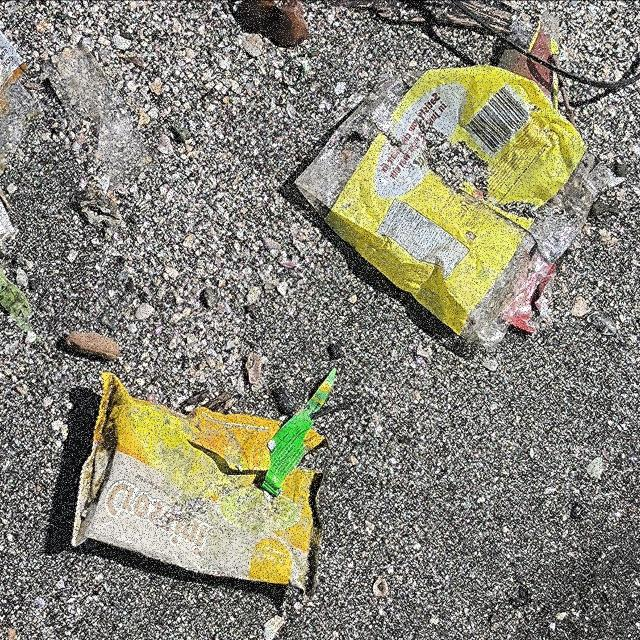plastic_waste: (295, 66, 604, 350), (72, 369, 335, 595)
